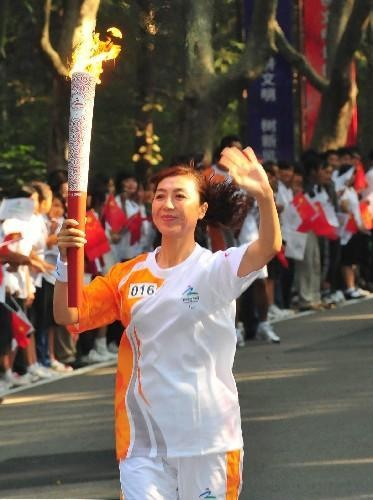fire: (65, 1, 122, 81)
